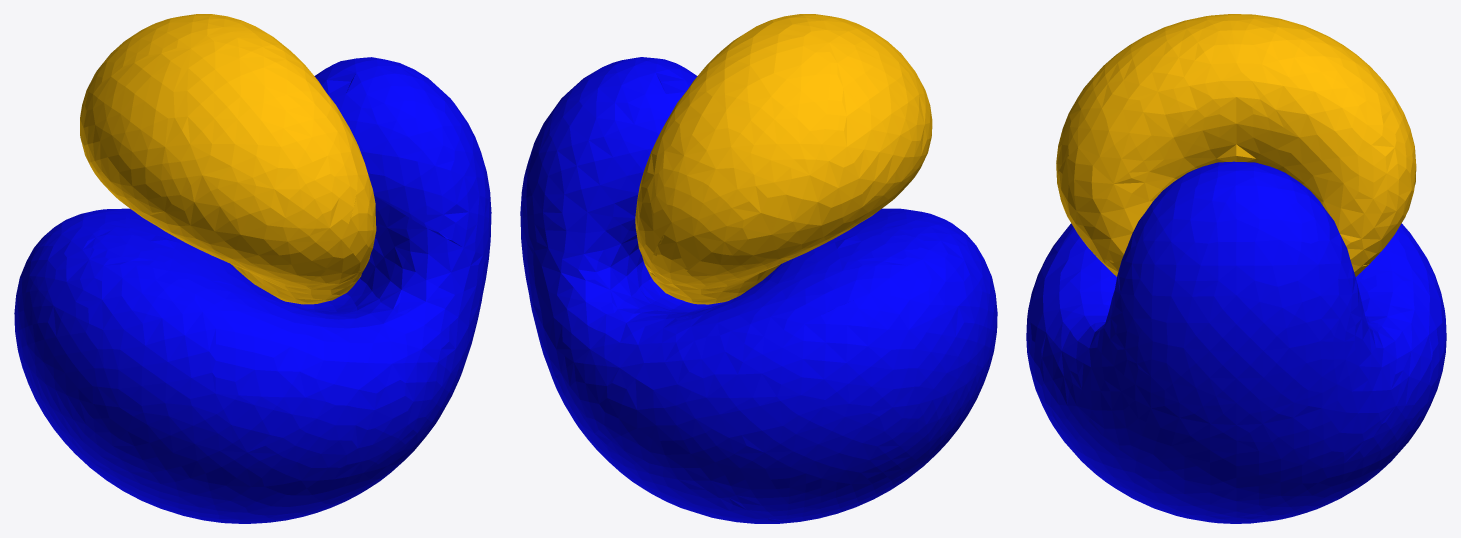
The picture shows the model from 3 angles, left to right: view 1: azimuth 30°, elevation 25°; view 2: azimuth 150°, elevation 25°; view 3: azimuth 270°, elevation 25°; orthographic projection. The views are drawn at different scales.
Size of the model in its own units: 21.55 by 22.91 by 18.84.
